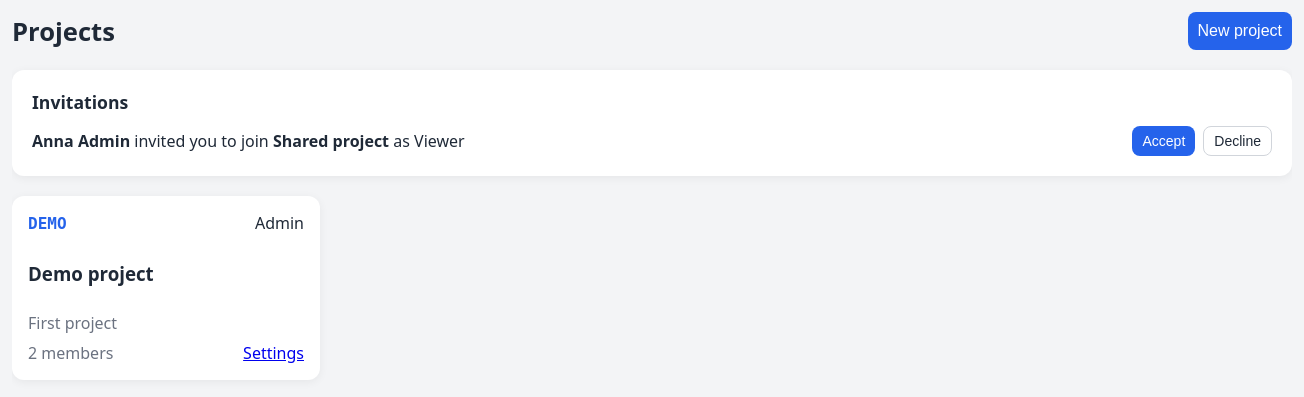
Test: Projects page › shows pending invitations and accepting one refreshes everything
Expected: the text "Anna Admin invited you to join Shared project as Viewer" is shown, [32, 130, 465, 152]
Expected: the text "Anna Admin" is shown, [32, 130, 130, 152]
Click the button "Accept" at coordinates (1164, 141), box [1132, 126, 1195, 156]
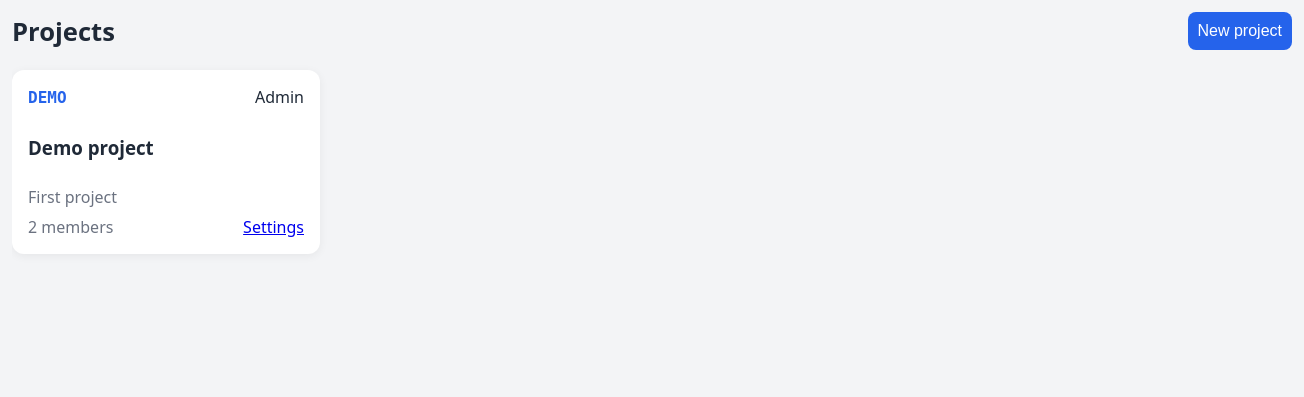
Expected: the text "invited you to join" is gone
